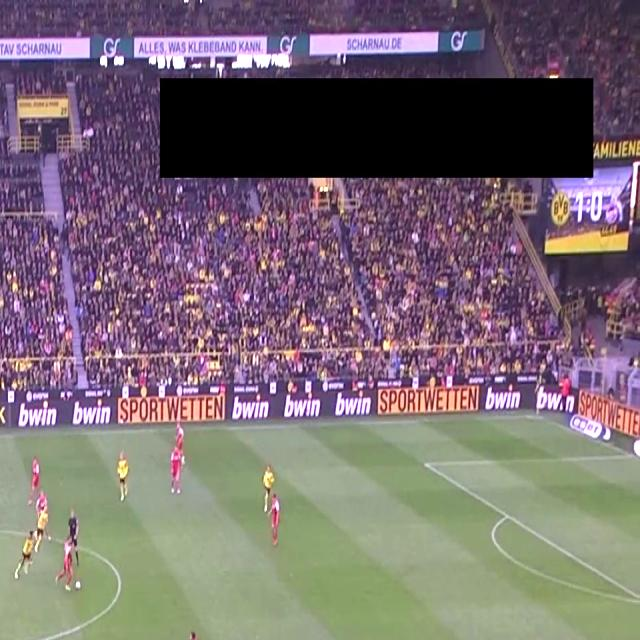ball: (72, 570, 84, 596)
referee: (64, 505, 80, 574)
soccer-player: (261, 489, 287, 552), (56, 526, 75, 602), (166, 437, 188, 502), (12, 526, 37, 582), (114, 450, 136, 510), (23, 456, 44, 506), (32, 506, 49, 554), (177, 626, 211, 640)
